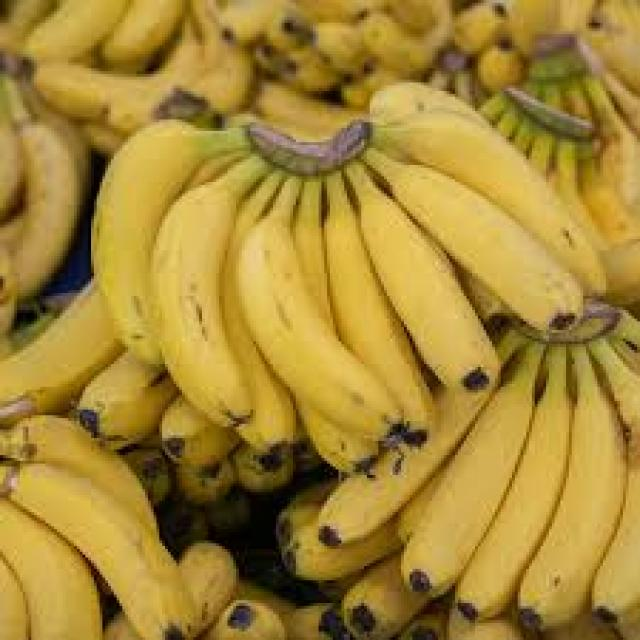Banana: (87, 86, 608, 470), (317, 297, 639, 629), (3, 413, 197, 640)
